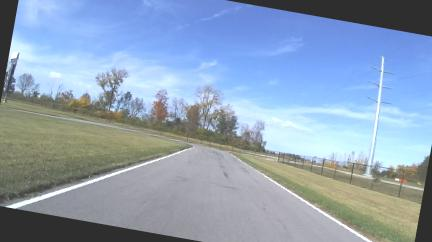Grass: (0, 99, 277, 161), (0, 108, 190, 197), (235, 154, 420, 241), (0, 99, 259, 155), (284, 160, 422, 203)
Lane: (19, 145, 365, 241)
